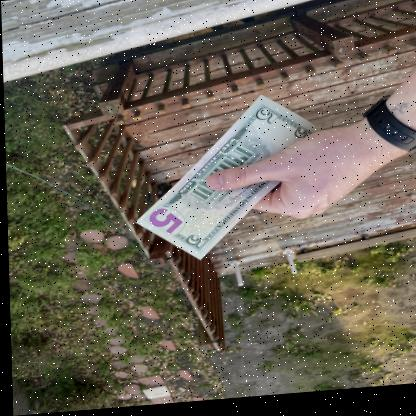five-back: (132, 94, 321, 261)
